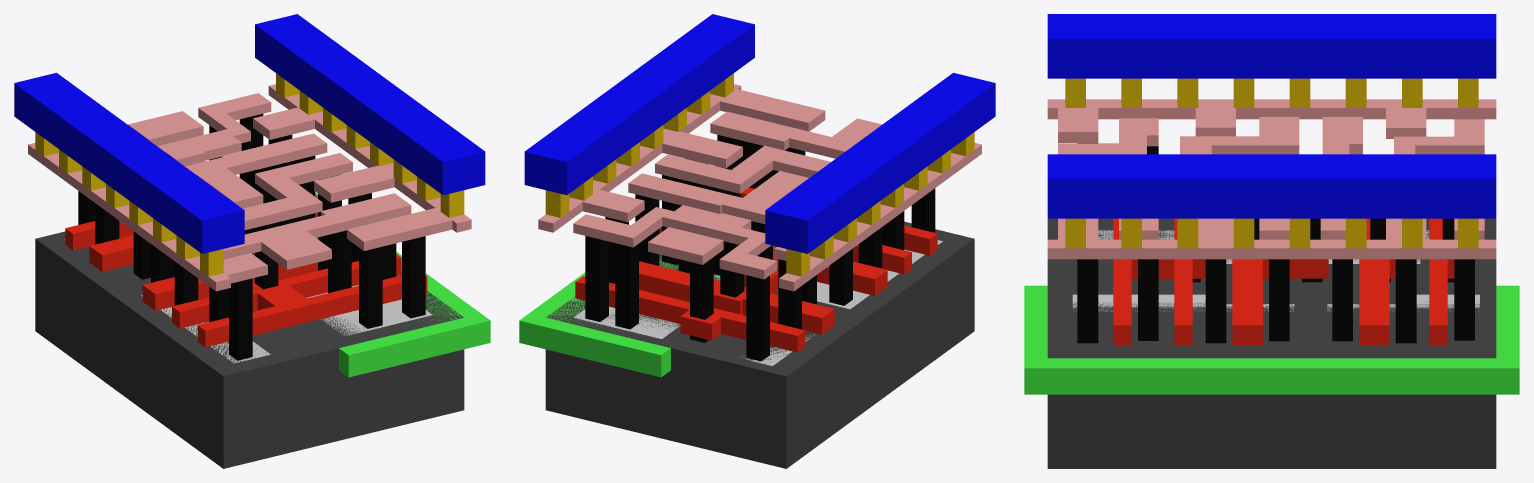
The model's file is sky130_fd_sc_hd__clkdlybuf4s25_2.obj.
The picture shows the model from 3 angles, left to right: view 1: azimuth 30°, elevation 25°; view 2: azimuth 150°, elevation 25°; view 3: azimuth 270°, elevation 25°; orthographic projection. The views are drawn at different scales.
Parts seen in each view (by area): view 1: subs, metal1, li, licon, poly, nwell, mcon, tap, diff; view 2: subs, metal1, li, licon, poly, nwell, mcon, diff, tap; view 3: metal1, subs, li, nwell, licon, poly, mcon, tap.
Part boxes in pixels (box(x1,y1,x2,y2)): subs: box(35, 231, 464, 468); metal1: box(14, 14, 485, 253); li: box(28, 84, 471, 291); licon: box(78, 113, 425, 360); poly: box(65, 195, 427, 347); nwell: box(315, 192, 490, 377); mcon: box(35, 73, 464, 276); tap: box(306, 237, 432, 335); diff: box(141, 295, 270, 363); subs: box(545, 221, 974, 468); metal1: box(524, 14, 995, 253); li: box(538, 84, 981, 291); licon: box(585, 134, 935, 361); poly: box(575, 187, 937, 352); nwell: box(519, 256, 720, 377); mcon: box(545, 73, 974, 276); diff: box(740, 240, 942, 365); tap: box(574, 274, 719, 338); metal1: box(1047, 14, 1496, 218); subs: box(1047, 218, 1496, 468); li: box(1047, 99, 1496, 259); nwell: box(1024, 285, 1519, 394); licon: box(1077, 143, 1474, 343); poly: box(1113, 218, 1454, 345); mcon: box(1065, 78, 1478, 248); tap: box(1072, 294, 1479, 314).
Size of the model in its own units: 3.2 by 2.74 by 4.06.
